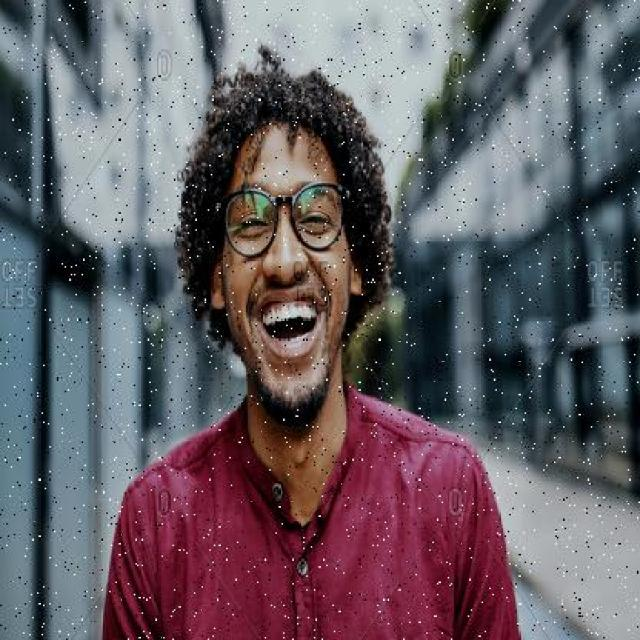mask: (210, 174, 358, 260)
